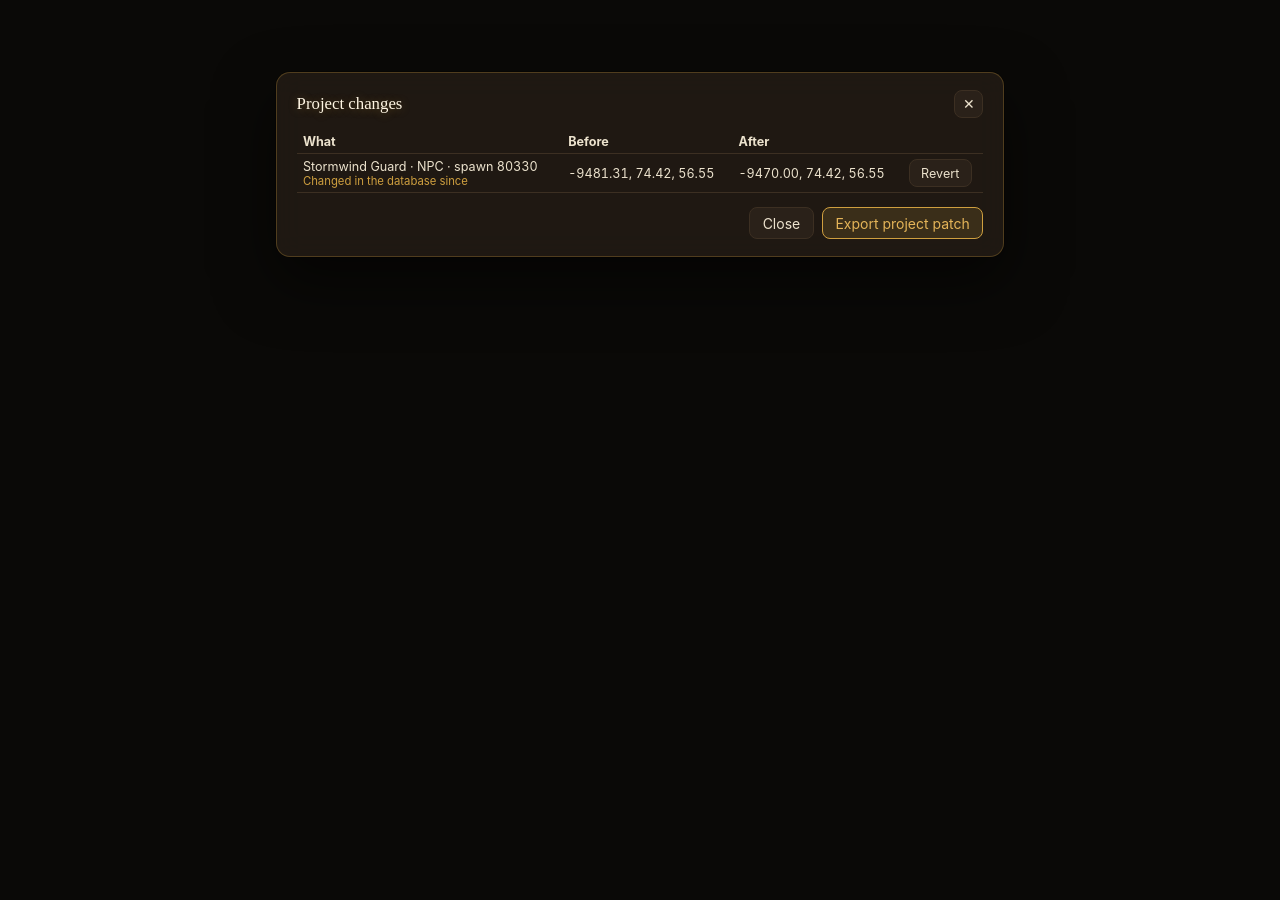
Test: the Project changes modal › exports and shows where the two files went
Step 1. Click the button "Export project patch" → (903, 223), box top-left (822, 207), bottom-right (983, 239)
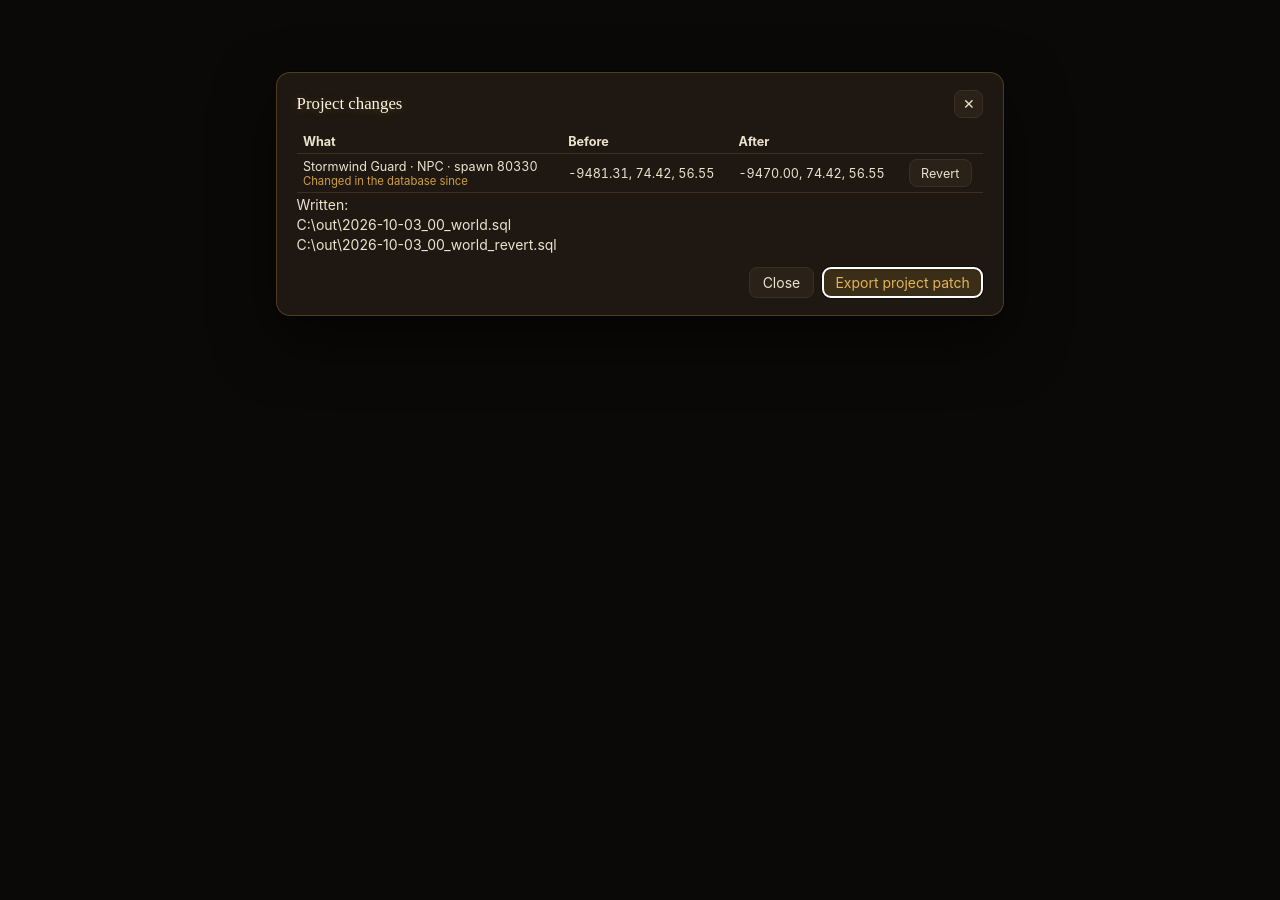
Expected: the text "C:\\out\\2026-10-03_00_world.sql" is shown, top-left (297, 216), bottom-right (511, 233)
Expected: the text "C:\\out\\2026-10-03_00_world_revert.sql" is shown, top-left (297, 236), bottom-right (557, 253)
